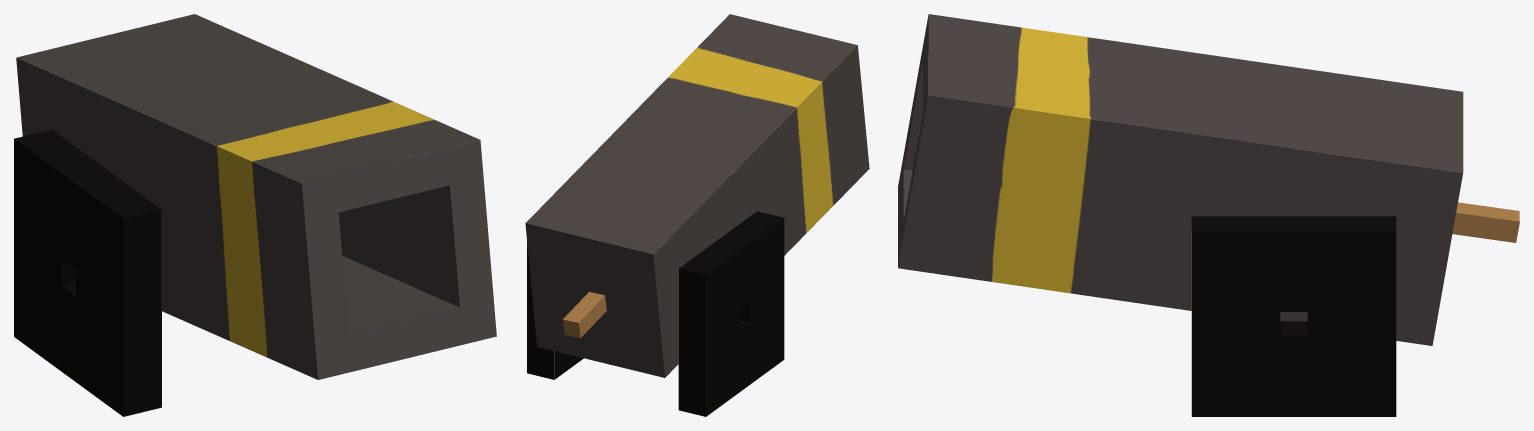
Rendered from boomboom.glb.
3 views of the same model, side by side, from view 1: azimuth 30°, elevation 25°; view 2: azimuth 150°, elevation 25°; view 3: azimuth 270°, elevation 25° (orthographic). The views are drawn at different scales.
Parts seen in each view (by area): view 1: Rohr; view 2: Rohr; view 3: Rohr.
Part boxes in pixels (x1,y1,x2,y2): Rohr: [14, 14, 496, 416]; Rohr: [525, 14, 869, 416]; Rohr: [898, 14, 1519, 416].
Bounding box in the file's own units: 2.8 × 3.5 × 6.44.
4 materials, 3 textured.
